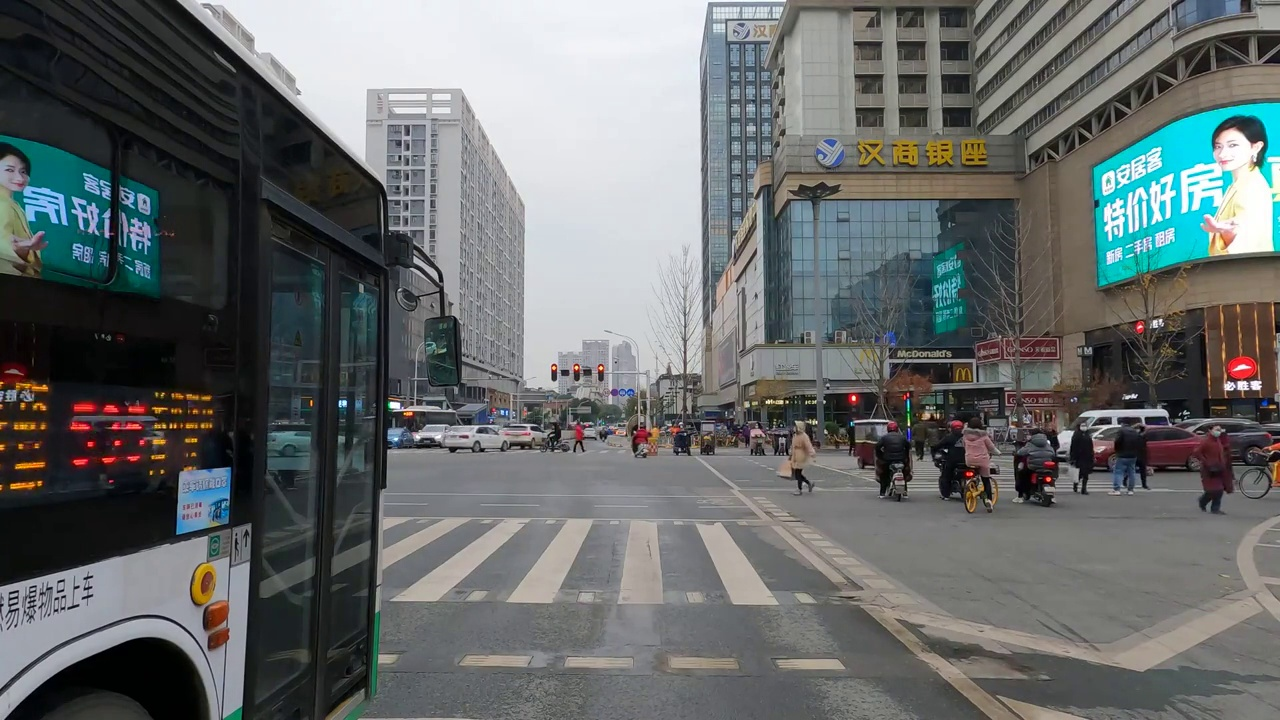lane: (741, 513, 1141, 720), (1151, 516, 1280, 650)
